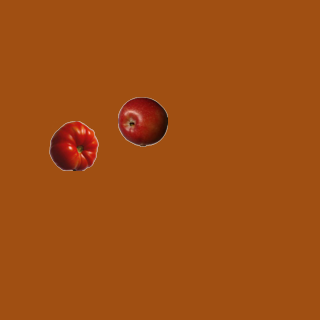Apple Braeburn: (117, 96, 167, 146)
Tomato 3: (48, 120, 98, 170)
